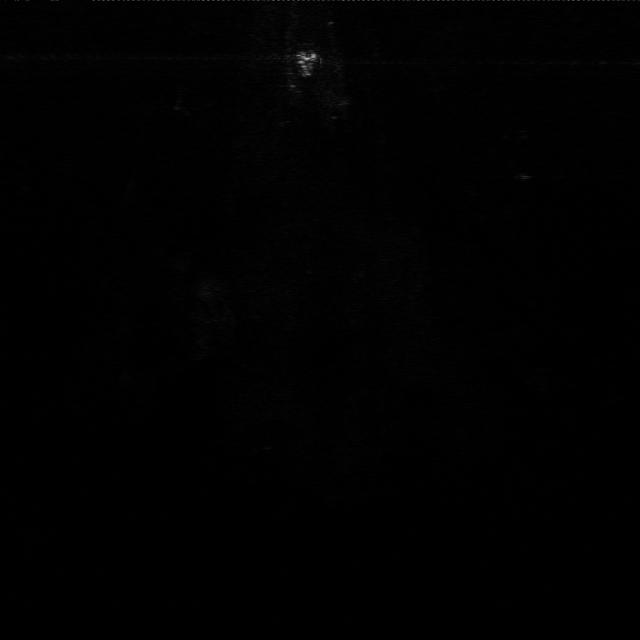rov: (289, 49, 322, 75)
